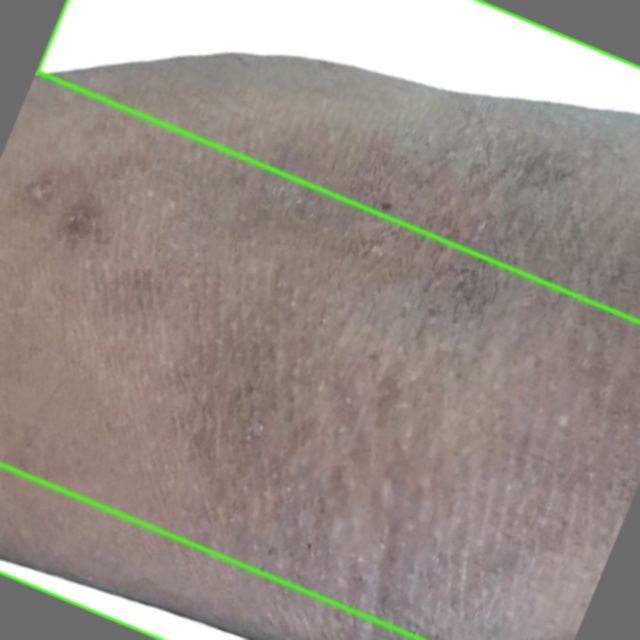Contact Dermatitis: (37, 0, 639, 321)
